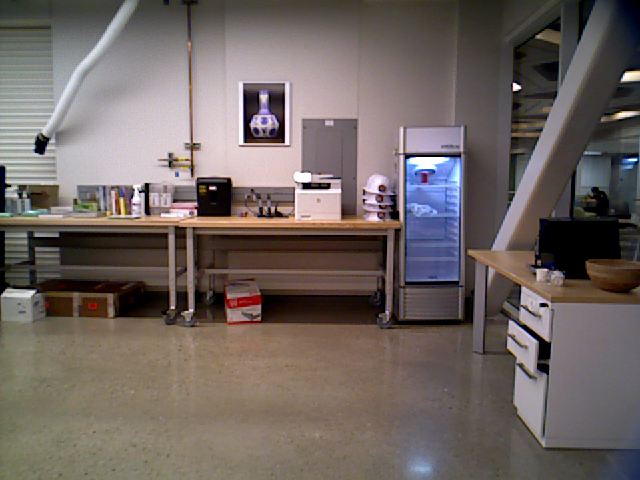painting2: (238, 83, 292, 148)
